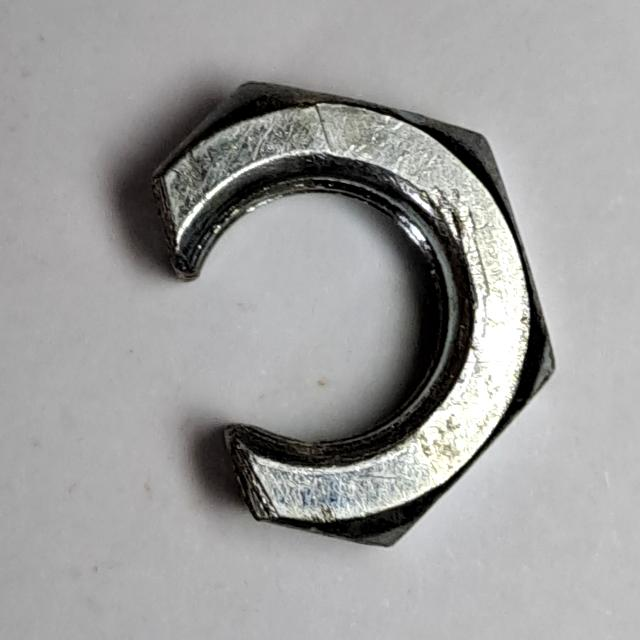Fracture: (139, 70, 567, 559)
